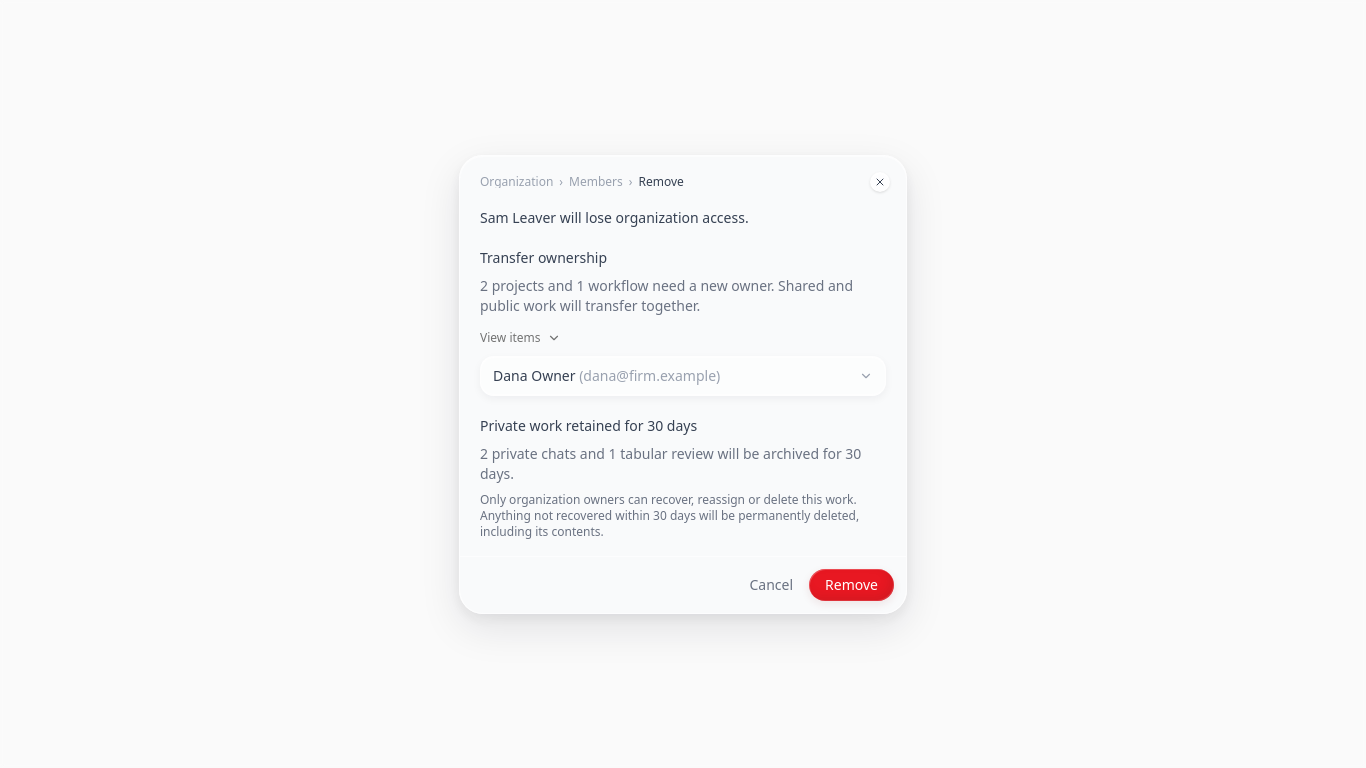
Test: a member who alone owns projects and workflows › offers the organization's other members, never the one who is going
Click the button with aria-label "Hand over to" at (683, 376), box [480,356,886,396]
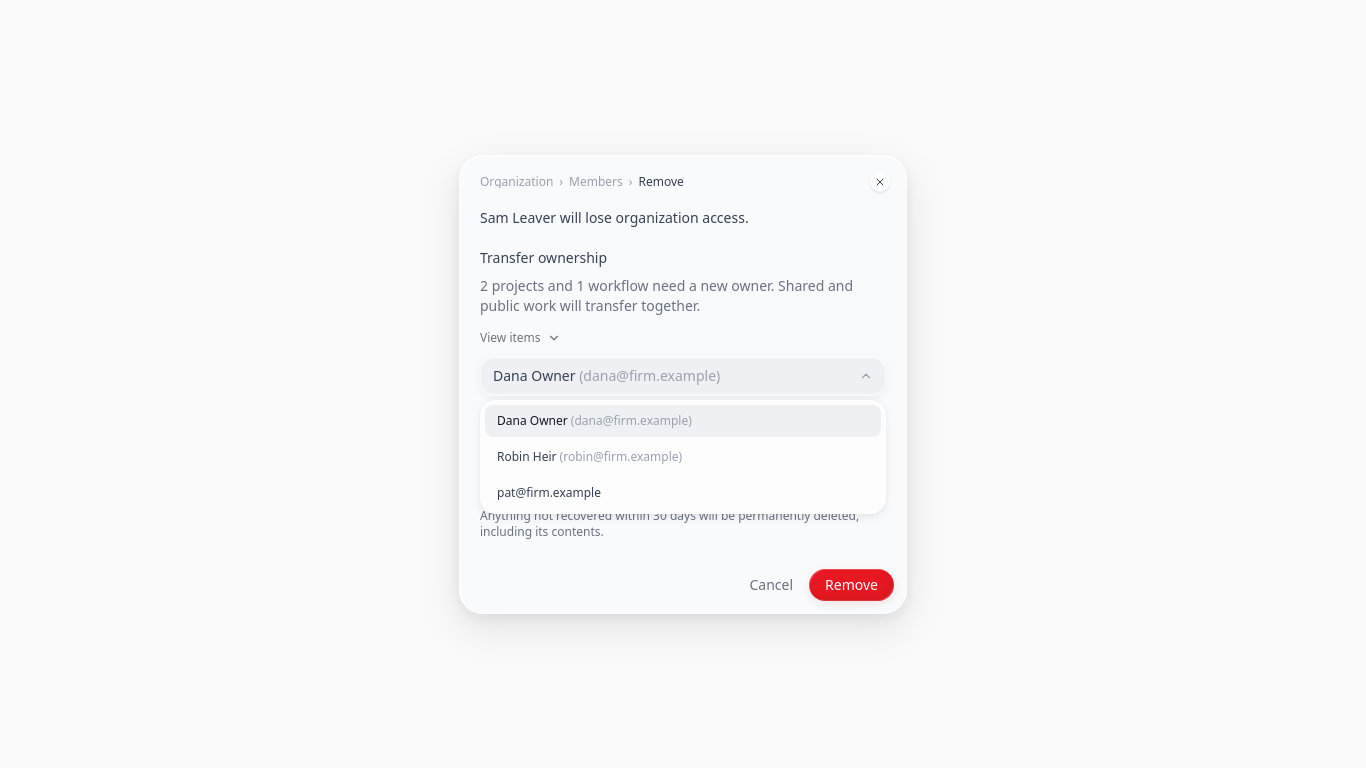
Expected: the menu items read "Dana Owner (dana@firm.example)", "Robin Heir (robin@firm.example)", "pat@firm.example", in this order, [485,405,881,437]; [497,448,682,465]; [497,484,601,501]
